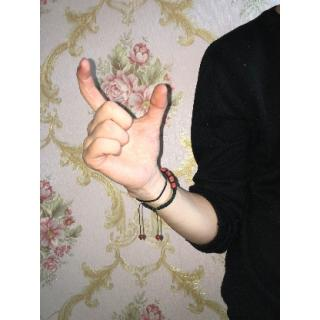NOON: (73, 52, 172, 194)
